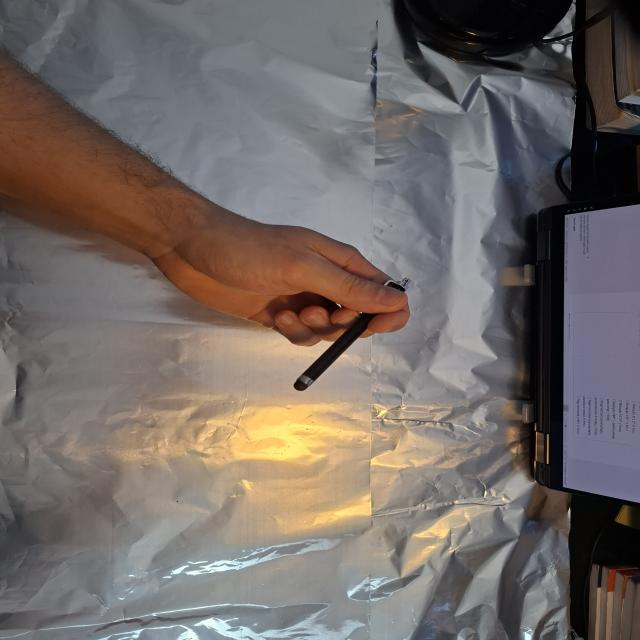glove_off: (148, 208, 414, 348)
